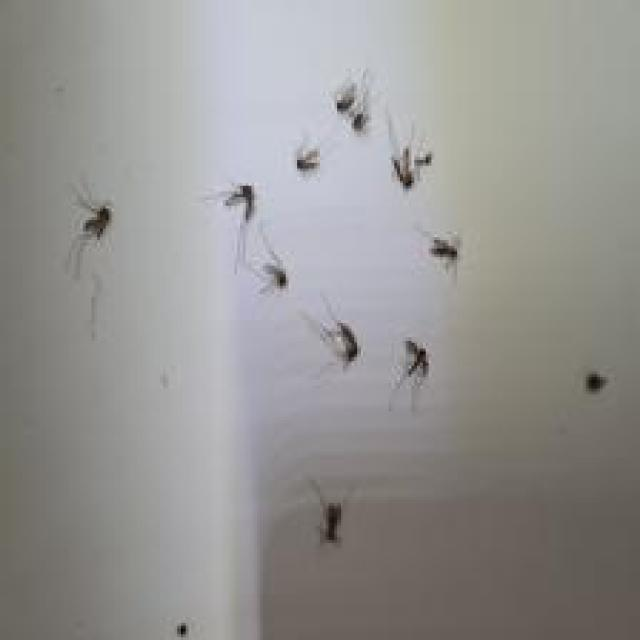Culex: (308, 477, 343, 546)
